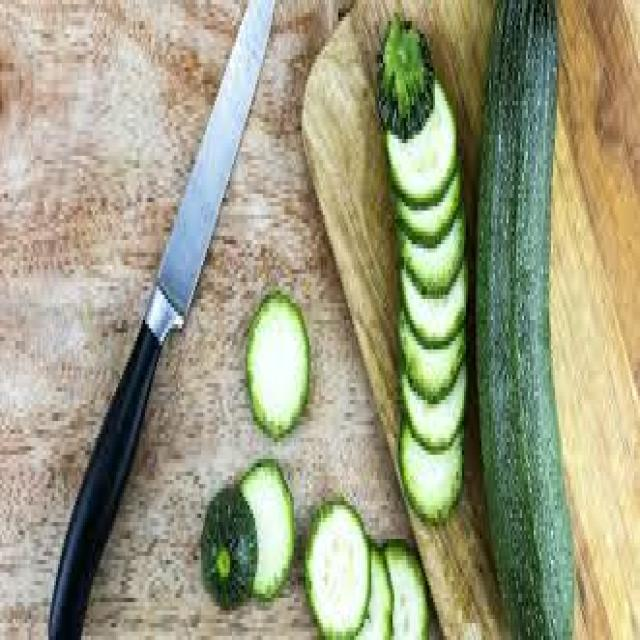Zucchini: (475, 0, 578, 640)
